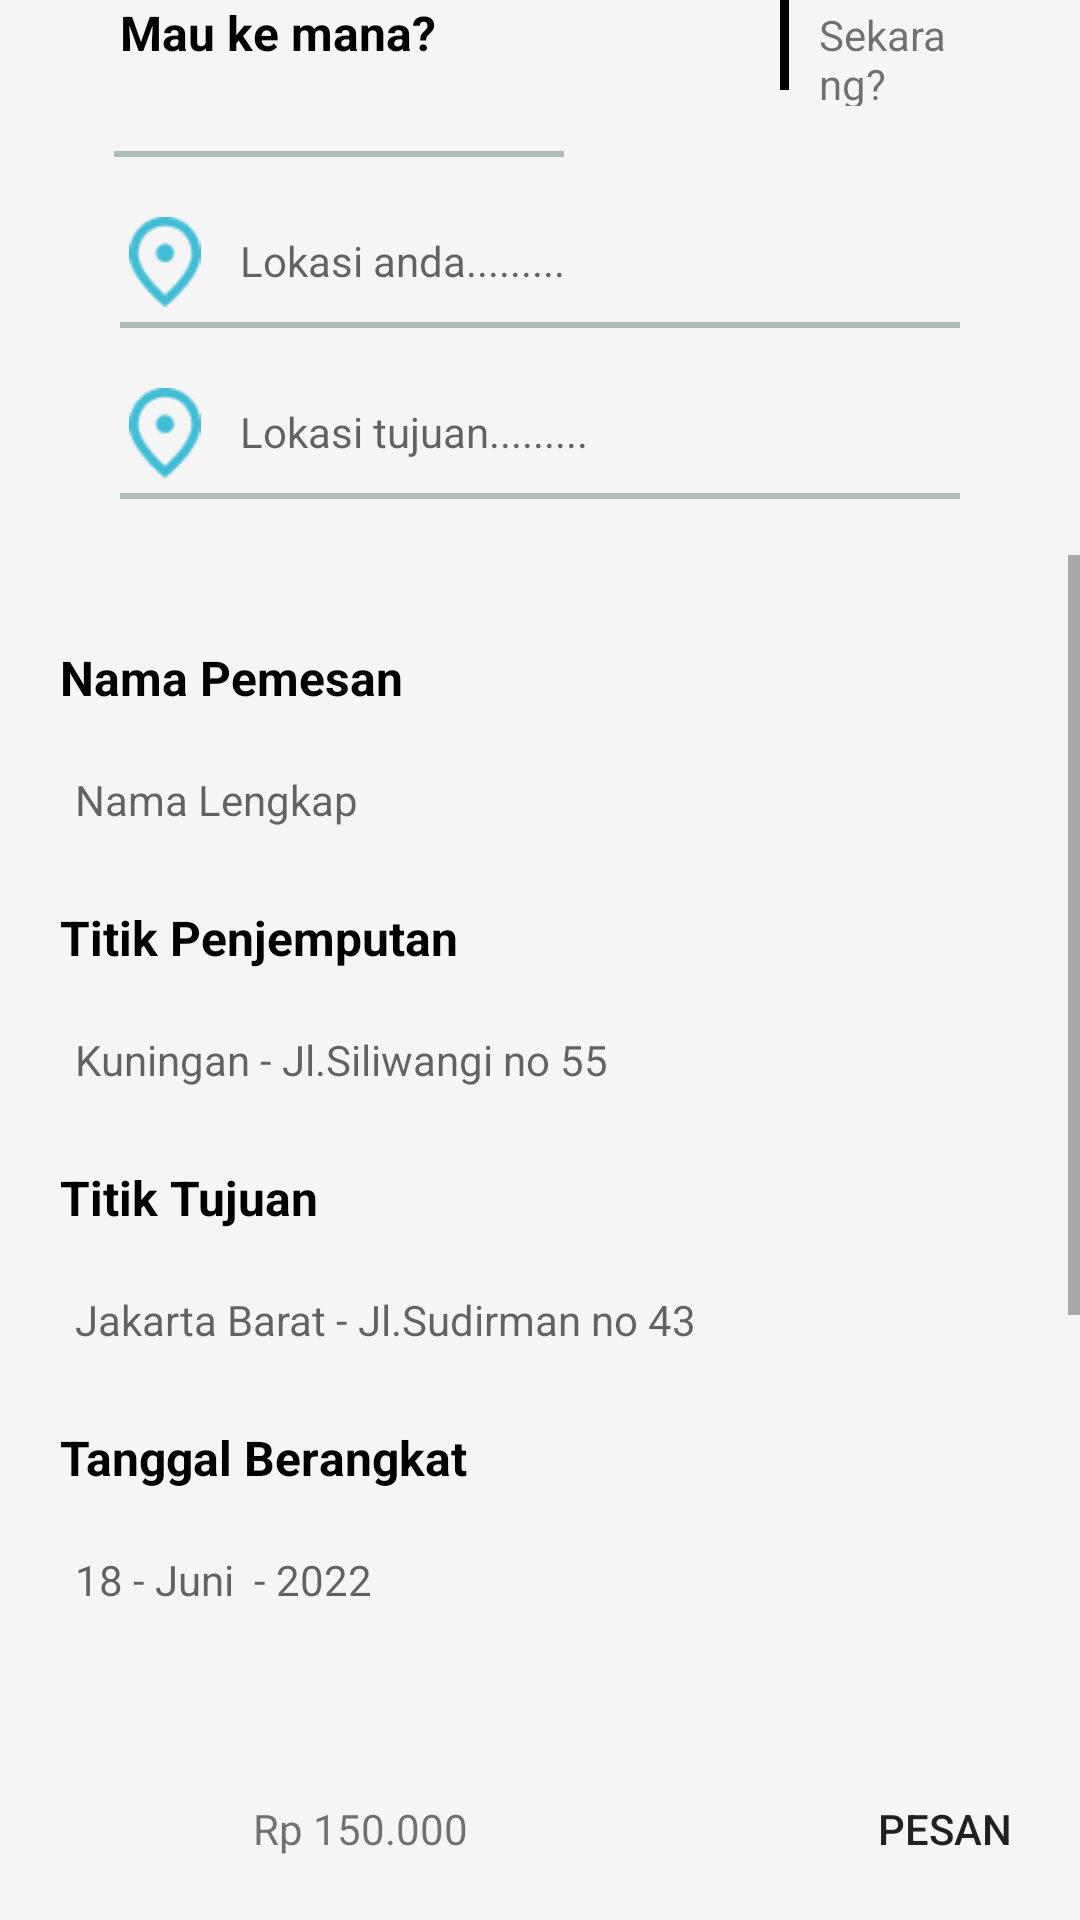

Where to tap for icons on this 1080px x 1920px app screen, as point (x, y):
maps: point (165, 262), point (165, 433)
